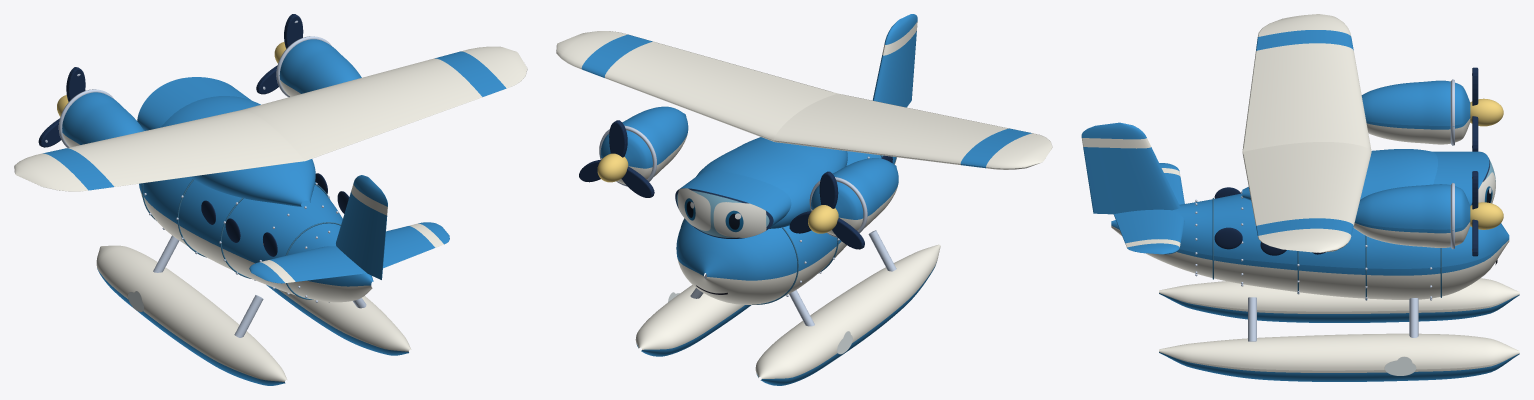
Rendered from cloud-voyager.glb.
3 views of the same model, side by side, from view 1: azimuth 30°, elevation 25°; view 2: azimuth 150°, elevation 25°; view 3: azimuth 270°, elevation 25° (orthographic). The views are drawn at different scales.
Parts seen in each view (by area): view 1: High gull wing-R, Float hull (×2), High gull wing-L, Sculpted fuselage, Engine cowling (×2), Rounded cockpit shell, Seaplane fin-R, Seaplane tailplane-L, Sculpted windshield surround, Seaplane tailplane-R, Sculpted blade 1 (×2), Float support; view 2: High gull wing-R, Float hull (×2), High gull wing-L, Sculpted fuselage, Engine cowling (×2), Rounded cockpit shell, Integrated windshield eyes, Seaplane fin-R, Sculpted windshield surround, Sculpted blade 2 (×2), Sculpted blade 1 (×2), Metal cowling rim (×2) (+2 smaller); view 3: Float hull (×2), Sculpted fuselage, High gull wing-L, Engine cowling (×2), High gull wing-R, Seaplane fin-R, Rounded cockpit shell, Seaplane tailplane-R, Sculpted windshield surround, Float support (×2), Wing propeller -1 spinner, Wing propeller 1 spinner (+4 smaller).
Part boxes in pixels (x1=…): High gull wing-R: x1=242, y1=46, x2=527, y2=160; Float hull (×2): x1=96, y1=245, x2=411, y2=385; High gull wing-L: x1=14, y1=110, x2=304, y2=191; Sculpted fuselage: x1=139, y1=177, x2=373, y2=302; Engine cowling (×2): x1=62, y1=39, x2=361, y2=147; Rounded cockpit shell: x1=160, y1=96, x2=315, y2=206; Seaplane fin-R: x1=336, y1=175, x2=387, y2=279; Seaplane tailplane-L: x1=249, y1=246, x2=366, y2=283; Sculpted windshield surround: x1=137, y1=77, x2=251, y2=130; Seaplane tailplane-R: x1=383, y1=222, x2=449, y2=268; Sculpted blade 1 (×2): x1=66, y1=14, x2=303, y2=101; Float support: x1=234, y1=295, x2=263, y2=337; High gull wing-R: x1=556, y1=31, x2=837, y2=141; Float hull (×2): x1=635, y1=244, x2=940, y2=385; High gull wing-L: x1=774, y1=93, x2=1052, y2=169; Sculpted fuselage: x1=676, y1=151, x2=896, y2=304; Engine cowling (×2): x1=600, y1=106, x2=898, y2=235; Rounded cockpit shell: x1=696, y1=137, x2=847, y2=228; Integrated windshield eyes: x1=675, y1=188, x2=773, y2=238; Seaplane fin-R: x1=872, y1=14, x2=917, y2=107; Sculpted windshield surround: x1=679, y1=170, x2=791, y2=238; Sculpted blade 2 (×2): x1=621, y1=166, x2=864, y2=249; Sculpted blade 1 (×2): x1=609, y1=120, x2=838, y2=208; Metal cowling rim (×2): x1=599, y1=125, x2=867, y2=237; Float hull (×2): x1=1159, y1=278, x2=1519, y2=381; Sculpted fuselage: x1=1111, y1=193, x2=1509, y2=299; High gull wing-L: x1=1242, y1=14, x2=1371, y2=151; Engine cowling (×2): x1=1353, y1=80, x2=1470, y2=247; High gull wing-R: x1=1242, y1=142, x2=1371, y2=252; Seaplane fin-R: x1=1081, y1=122, x2=1180, y2=214; Rounded cockpit shell: x1=1242, y1=149, x2=1437, y2=200; Seaplane tailplane-R: x1=1113, y1=209, x2=1184, y2=254; Sculpted windshield surround: x1=1433, y1=151, x2=1489, y2=205; Float support (×2): x1=1248, y1=297, x2=1418, y2=341; Wing propeller -1 spinner: x1=1470, y1=98, x2=1503, y2=126; Wing propeller 1 spinner: x1=1470, y1=202, x2=1503, y2=229.
Size of the model in its own units: 3.32 by 1.49 by 2.58.
11 materials, 4 textured.
